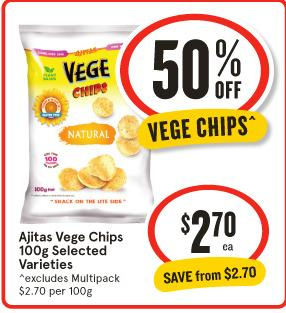description_block: (8, 230, 137, 273)
price_main: (171, 197, 254, 255)
product_image_block: (8, 19, 159, 229)
unit_price_block: (154, 259, 264, 285), (11, 283, 107, 302)
